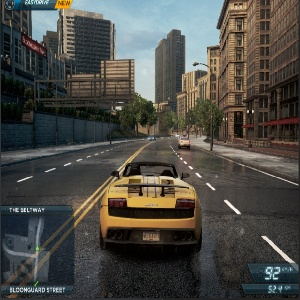ad: (23, 33, 51, 57)
building: (199, 20, 300, 143), (52, 10, 117, 139), (155, 27, 185, 137)
lamp post: (191, 61, 220, 150)
tree: (191, 103, 221, 144), (124, 98, 153, 138), (160, 110, 178, 136)
vehicle: (176, 134, 191, 151), (148, 134, 156, 142)
